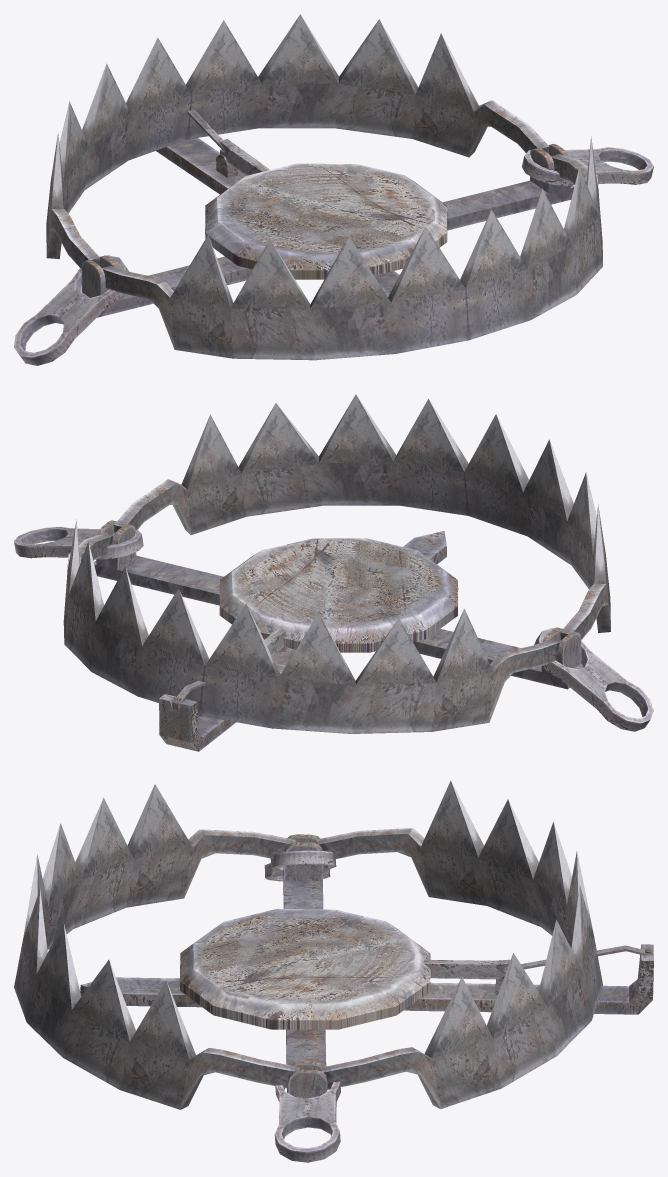
3 views of the same model, one above another, from view 1: azimuth 30°, elevation 25°; view 2: azimuth 150°, elevation 25°; view 3: azimuth 270°, elevation 25° (orthographic). The views are drawn at different scales.
Visible parts, largest first — view 1: Trap_LeftSide, Trap_RightSide, Trap_Center, Trap_Cross, Trap_1, Trap_4; view 2: Trap_RightSide, Trap_LeftSide, Trap_Center, Trap_Cross, Trap_1; view 3: Trap_RightSide, Trap_LeftSide, Trap_Center, Trap_Cross, Trap_1, Trap_4.
Boxes of the visible parts, <box> form: Trap_LeftSide: <box>102,136,602,360</box>; Trap_RightSide: <box>46,14,549,268</box>; Trap_Center: <box>205,163,447,279</box>; Trap_Cross: <box>80,138,574,317</box>; Trap_1: <box>14,147,653,365</box>; Trap_4: <box>219,139,269,175</box>; Trap_RightSide: <box>63,519,559,733</box>; Trap_LeftSide: <box>114,394,610,640</box>; Trap_Center: <box>219,538,458,652</box>; Trap_Cross: <box>93,520,582,751</box>; Trap_1: <box>14,527,653,731</box>; Trap_RightSide: <box>317,780,602,1108</box>; Trap_LeftSide: <box>14,784,299,1109</box>; Trap_Center: <box>180,908,430,1029</box>; Trap_Cross: <box>80,834,653,1098</box>; Trap_1: <box>264,850,340,1162</box>; Trap_4: <box>424,959,510,979</box>.
Size of the model in its own units: 148 by 35.74 by 124.
1 material, 1 textured.
